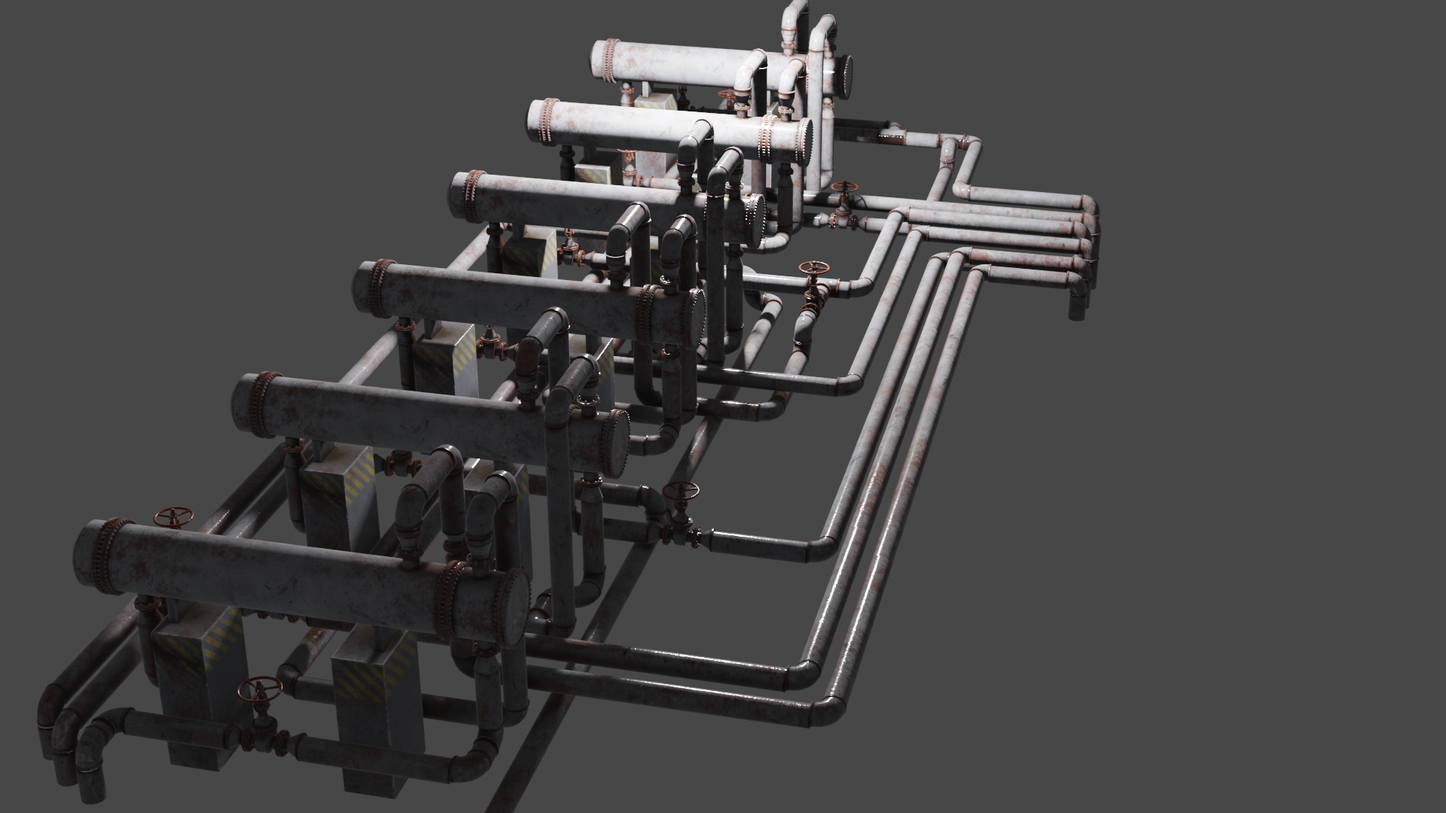HE_1: (69, 520, 529, 646)
HE_2: (229, 369, 632, 482)
HE_3: (345, 258, 709, 344)
HE_4: (447, 168, 764, 245)
HE_5: (521, 97, 812, 160)
HE_6: (586, 33, 854, 99)
